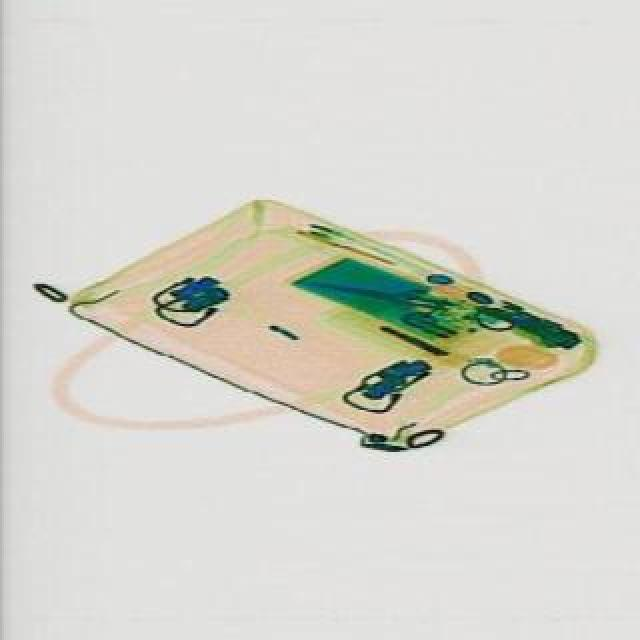knife: (300, 276, 458, 316)
